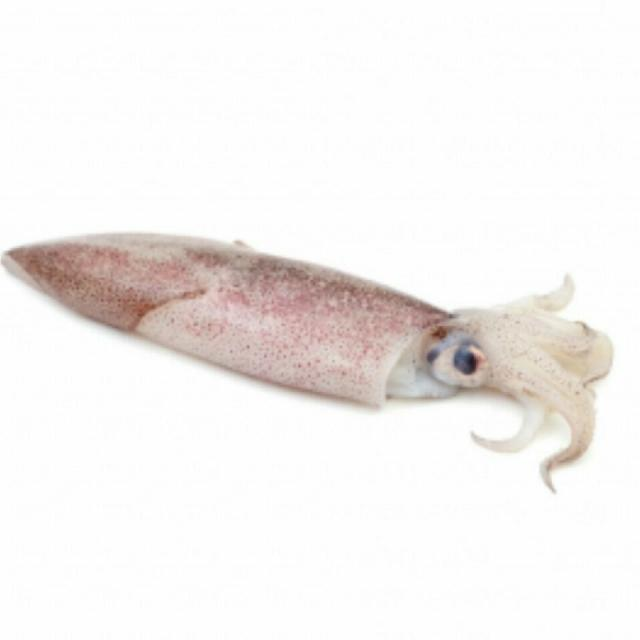SQUID: (0, 228, 638, 470)
